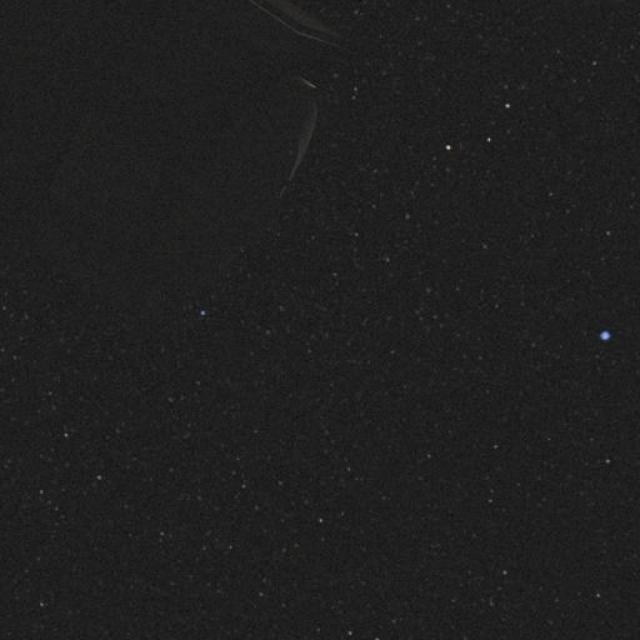debris: (21, 58, 368, 249)
